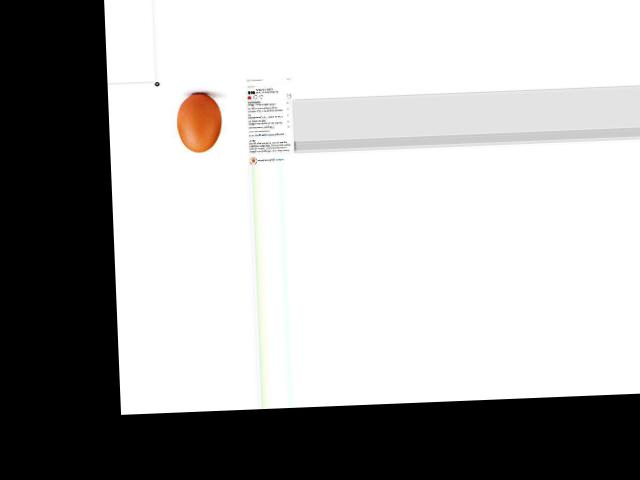egg: (176, 92, 223, 152)
